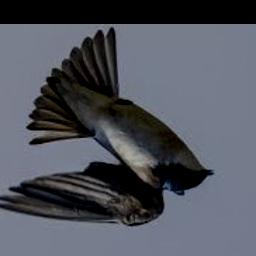Swallow: (0, 29, 214, 226)
